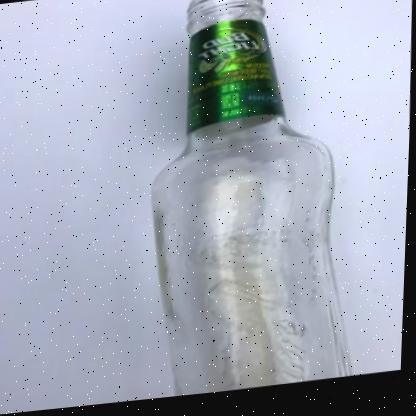Glass: (152, 0, 352, 401)
